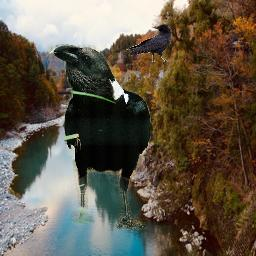Crow: (48, 44, 151, 230), (125, 24, 172, 65)
